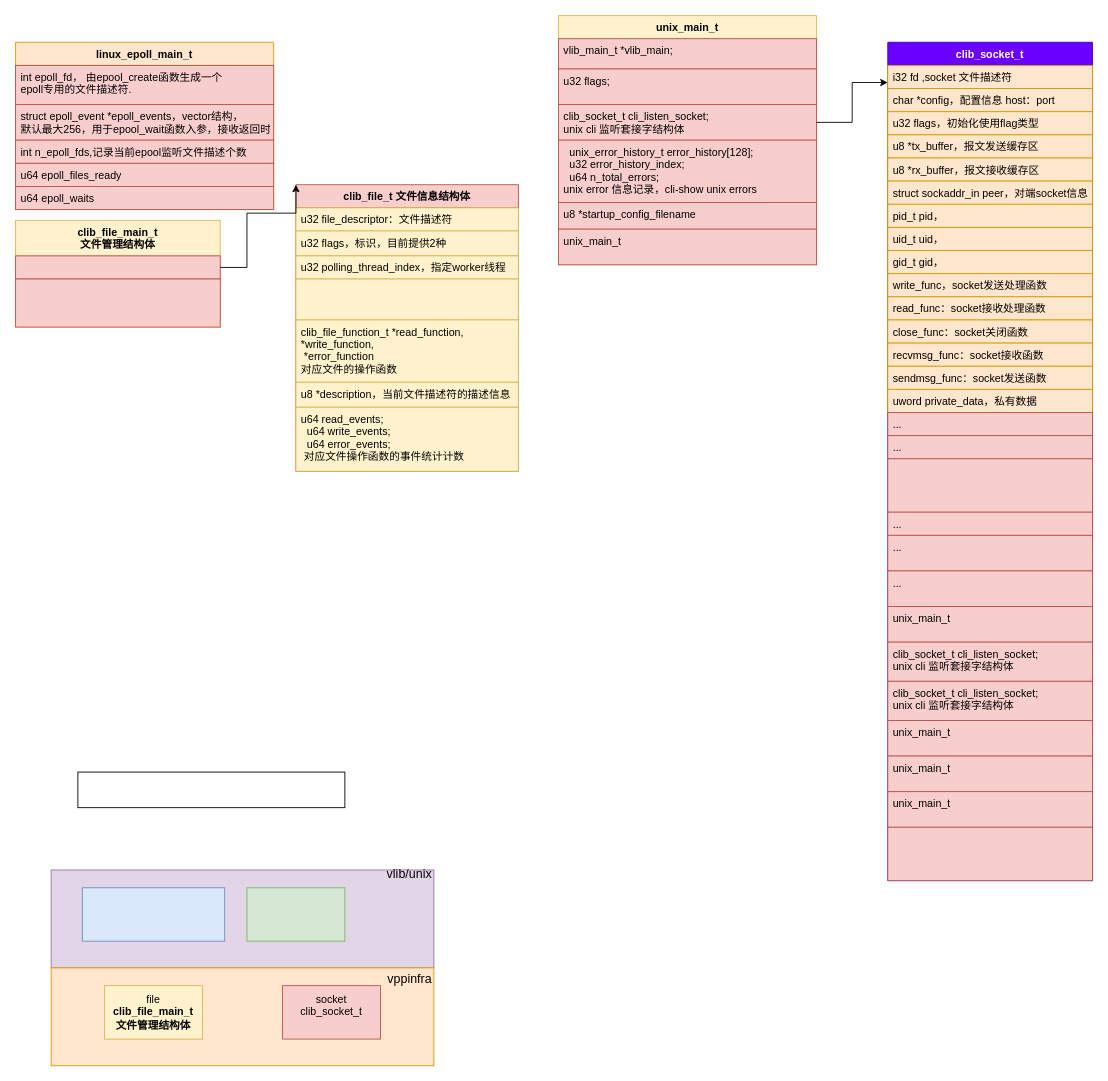
The diagram is 1108 pixels wide and 1081 high, and some of its shapes have lost their labels. The centre of each missing label's shape, as x and y in pixels:
clib_file_t *file_pool，文件管理pool池: point (117, 267)
input.c linux_epoll_mains[workers]: point (153, 914)
socket: point (295, 914)
u64 private_data， 私有数据，文件操作函数使用: point (406, 299)
VLIB_INIT_FUNCTION (linux_epoll_input_init);: point (211, 789)
void (*file_update)（）文件更新函数指针 支持文件信息的添加、删除、修改动作。: point (117, 302)
